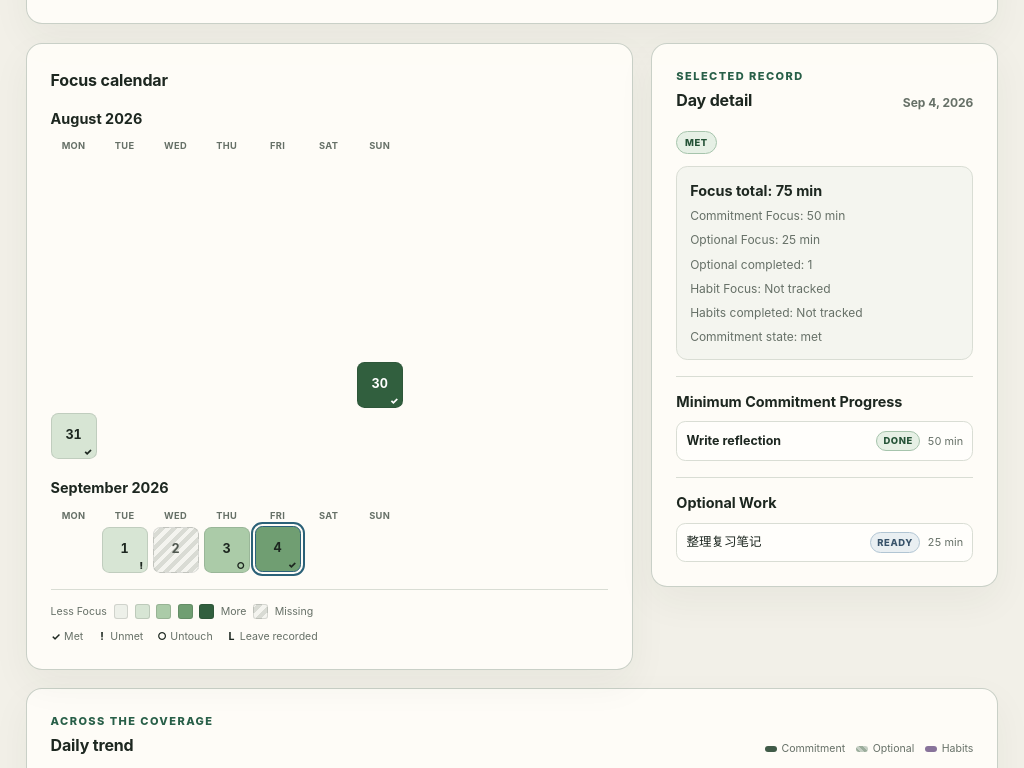
it: App › shows selected finalized lists and the exact missing-record message
This screenshot has width=1024, height=768.
(page scrolled)
Click the button named "2026-08-30" at (380, 385), box [357,362,403,408]
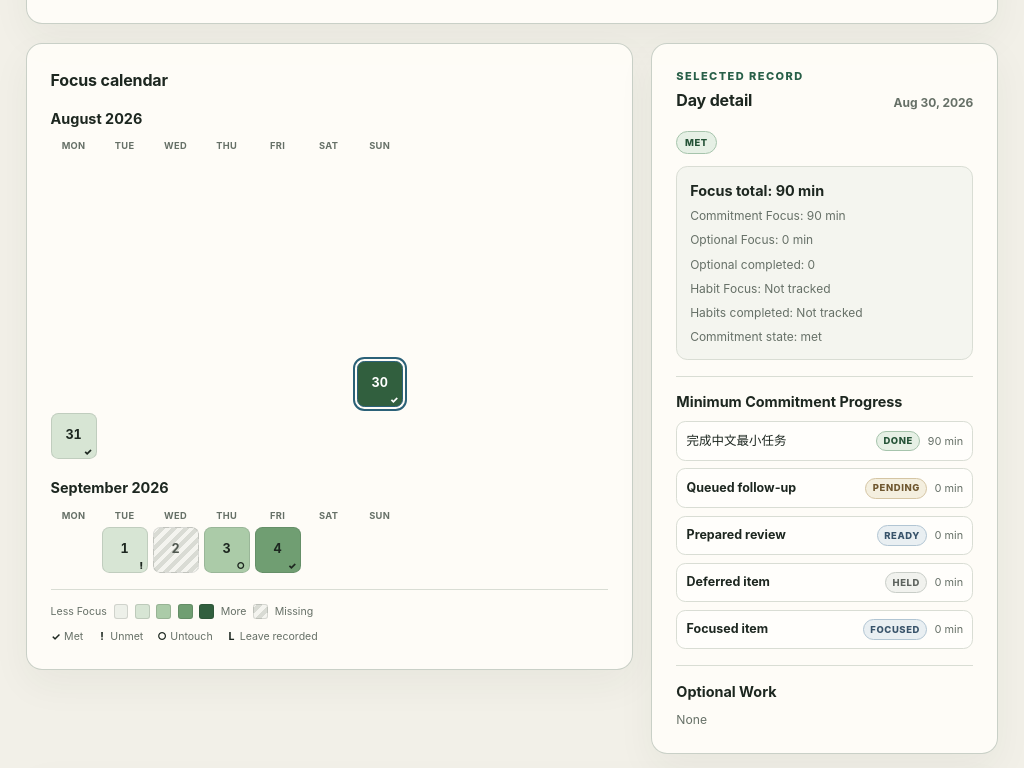
expect the heading "Minimum Commitment Progress" is shown: met, box [676,393,902,410]
expect the text "完成中文最小任务" is shown: met, box [687,433,786,448]
Click the button named "2026-09-02" at (176, 550), box [153,527,198,573]
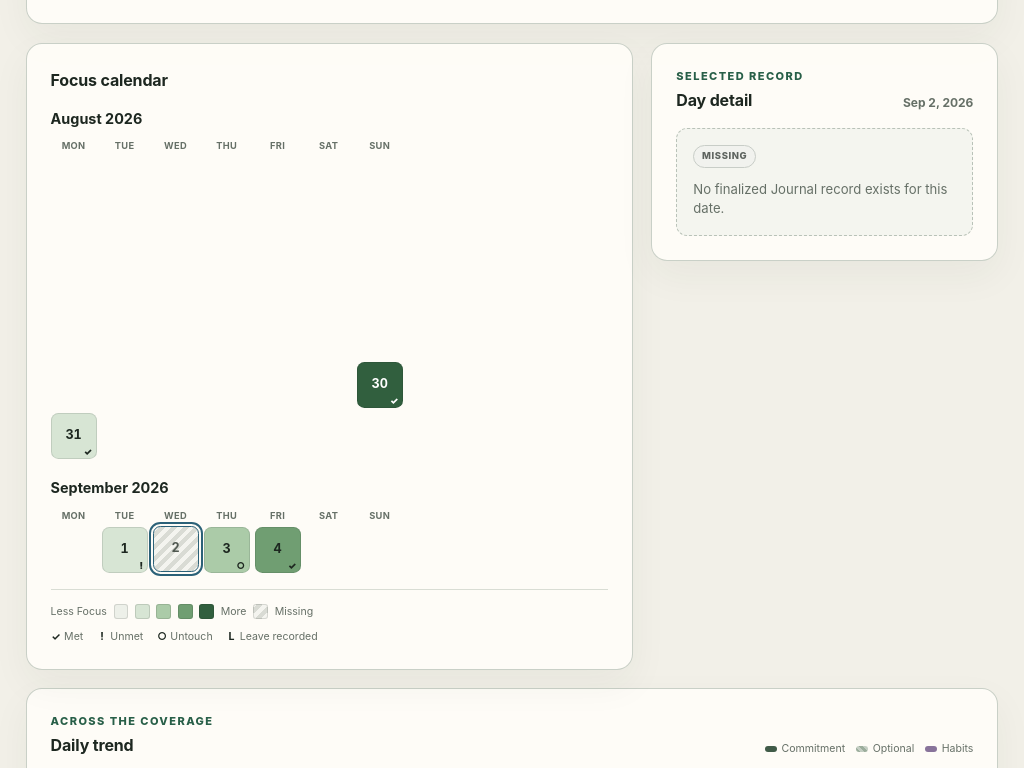
expect the text "No finalized Journal record exists for this date." is shown: met, box [693,180,956,219]
